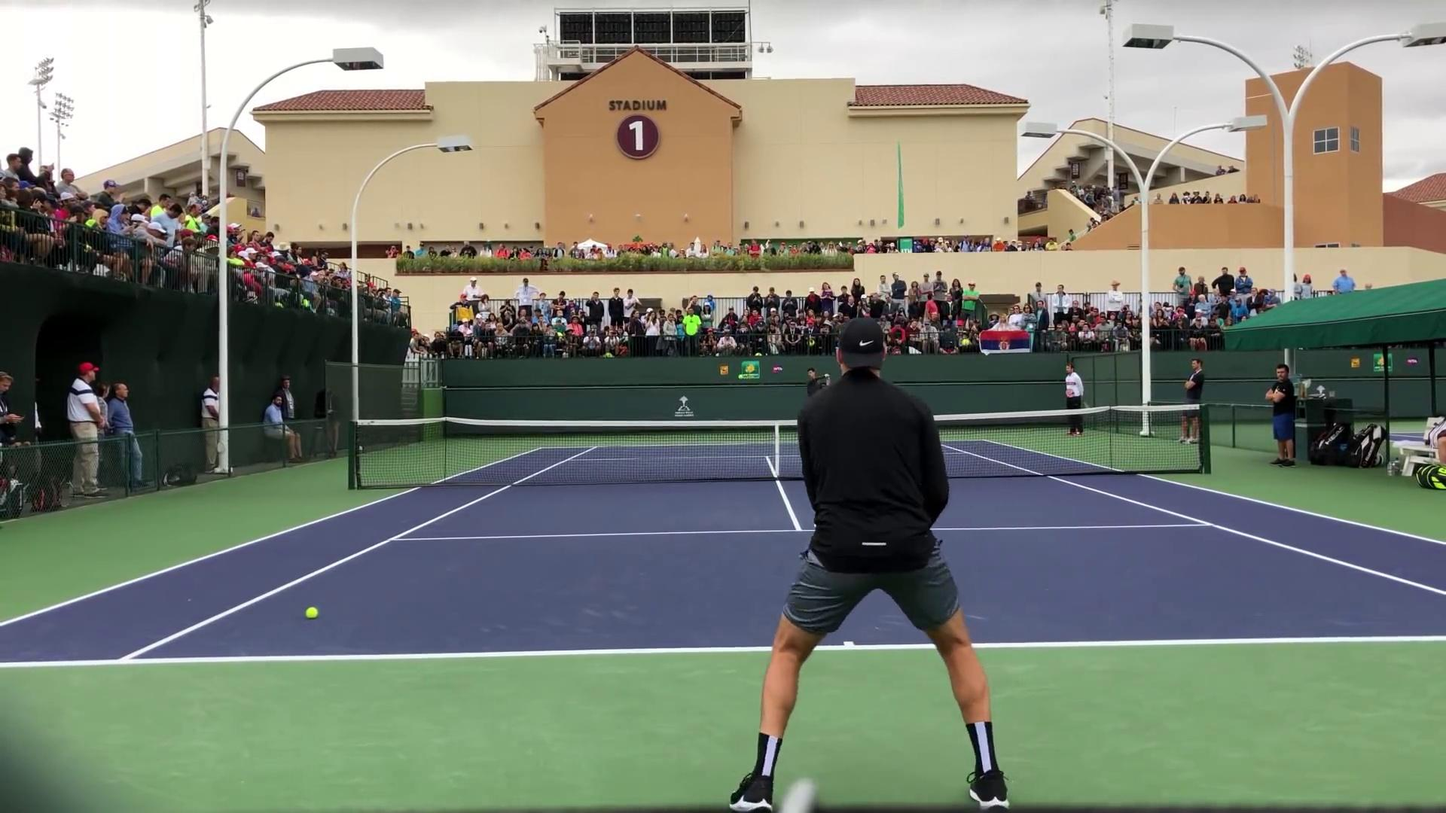ball: (304, 606, 319, 619)
